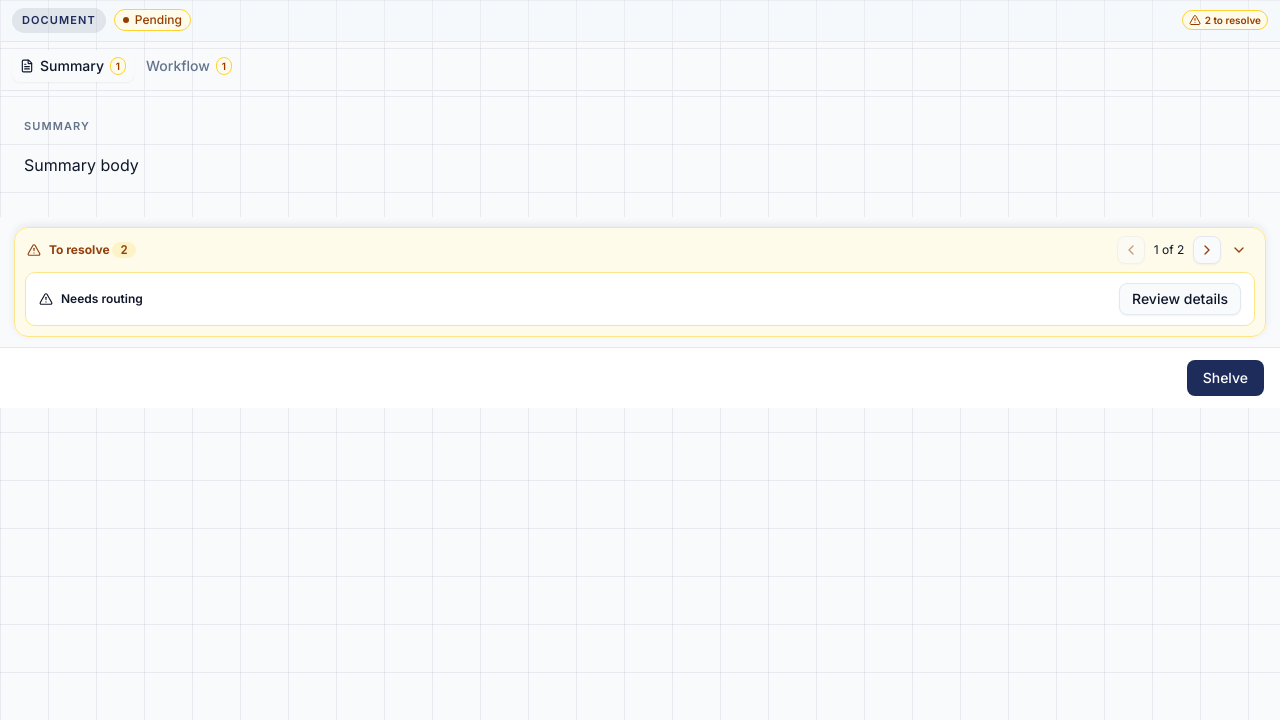
DocumentPanelRenderer › Dismiss › removes a no-target notification and drops the tray count, header pill and tab badge at once
expect the element with test id "document-resolve-tray-header" reads "To resolve 2": met, box [49,242,136,258]
expect the button with aria-label "2 unresolved alerts" is shown: met, box [1182,10,1268,30]
Step 1. Click the button named "Next issue" → click(1207, 250), box [1193,236,1221,264]
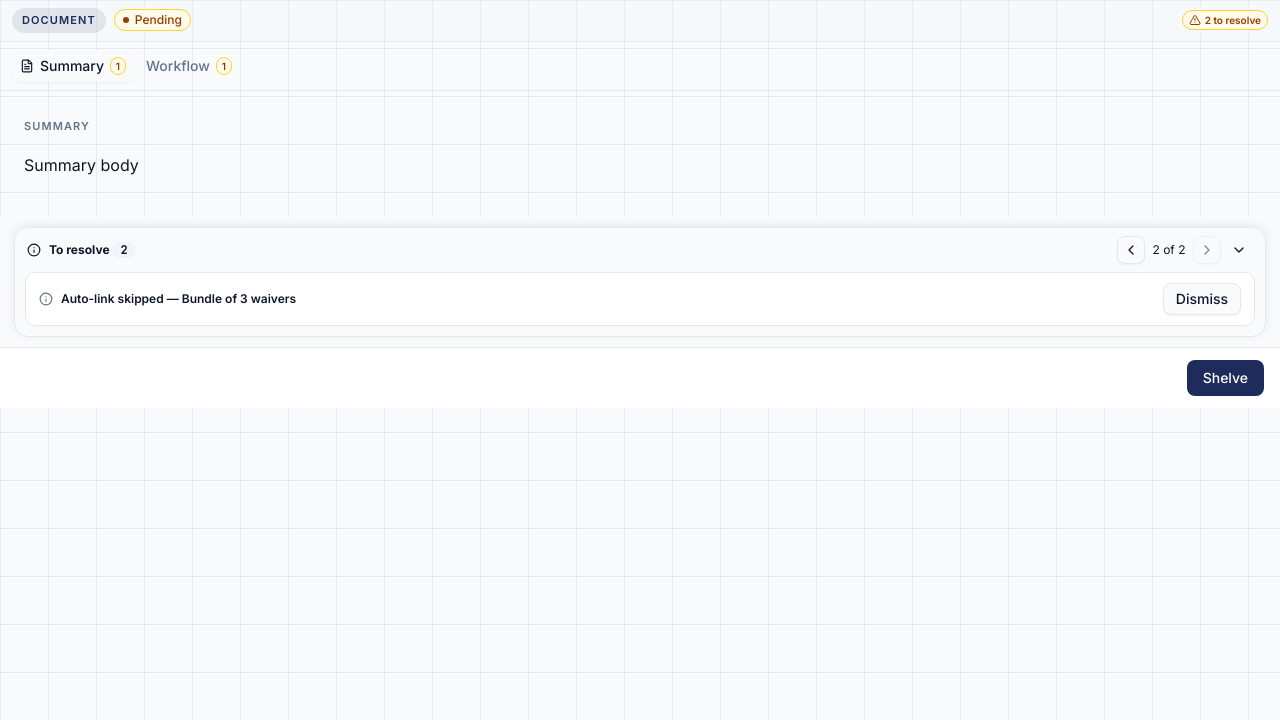
expect the text "Auto-link skipped — Bundle of 3 waivers" is shown: met, box [61,290,296,306]
expect the button "Review details" is gone: met
Step 2. Click the button "Dismiss" → click(1202, 298), box [1163,282,1241,314]
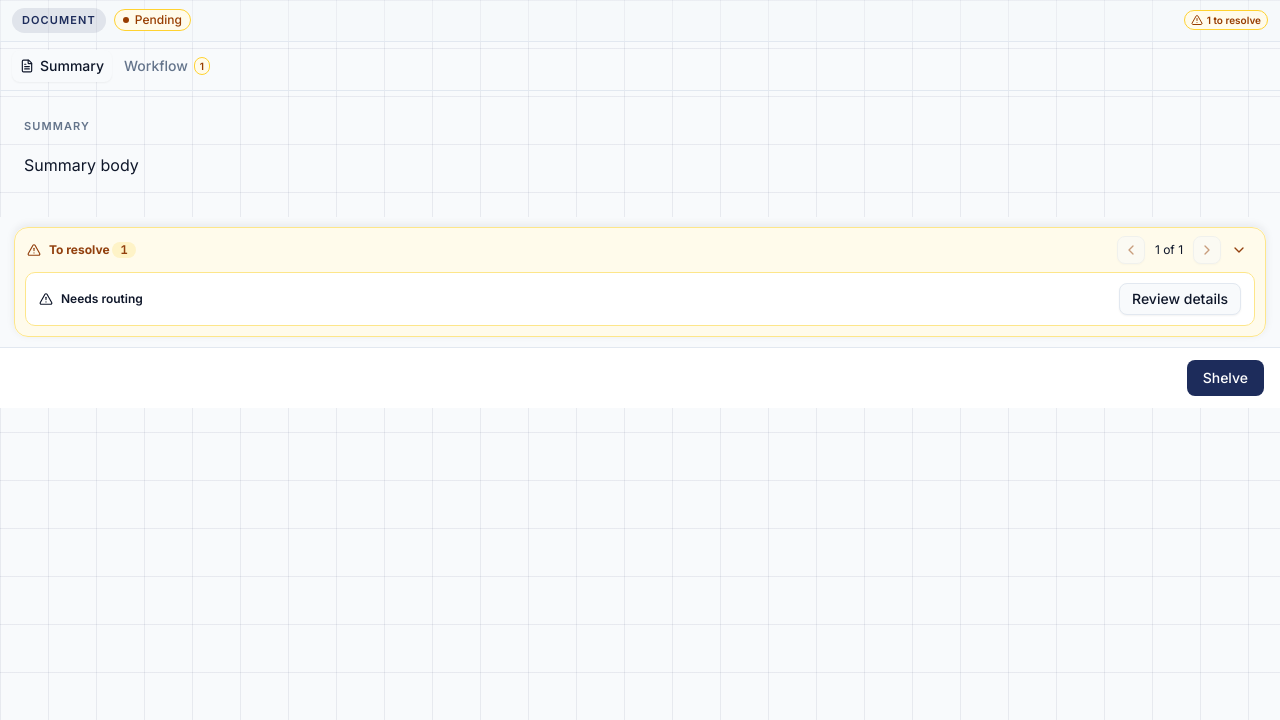
expect the text "Auto-link skipped" is gone: met
expect the element with test id "document-resolve-tray-header" reads "To resolve 1": met, box [49,242,136,258]
expect the button with aria-label "1 unresolved alert" is shown: met, box [1184,10,1268,30]
